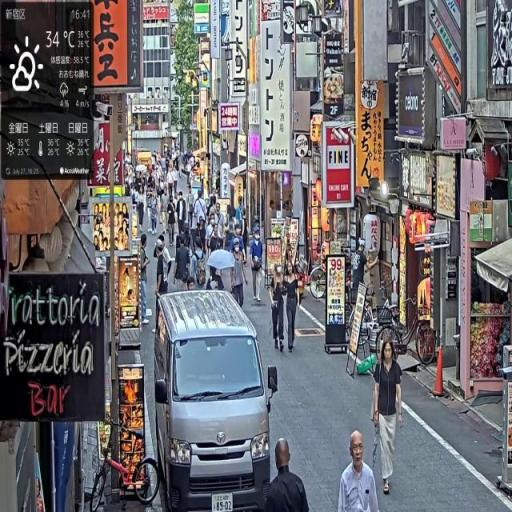person: (375, 336, 404, 496), (340, 431, 381, 512), (267, 437, 309, 512), (285, 261, 301, 354), (271, 262, 287, 354), (136, 235, 151, 325), (155, 241, 169, 336), (351, 238, 369, 306), (232, 238, 247, 310), (252, 228, 265, 303)
